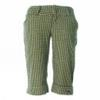bermuda: (24, 6, 78, 94)
